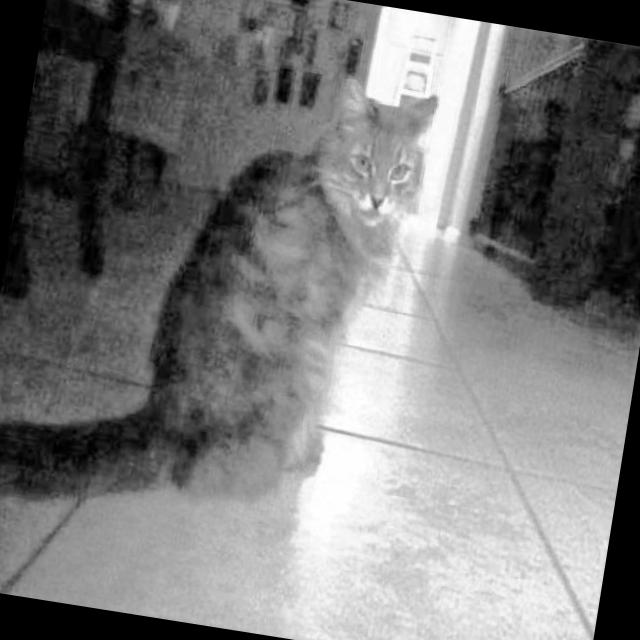Cat: (0, 21, 451, 580)
